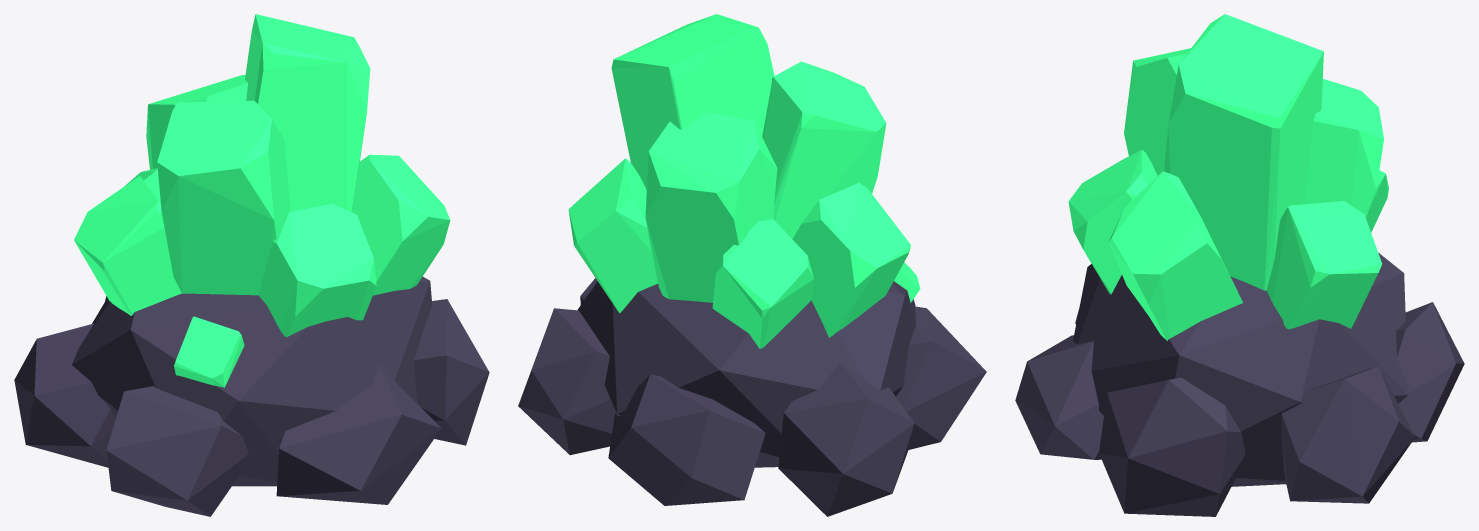
The model's file is Ore_Emerald.fbx.
3 views of the same model, side by side, from view 1: azimuth 30°, elevation 25°; view 2: azimuth 150°, elevation 25°; view 3: azimuth 270°, elevation 25° (orthographic). The views are drawn at different scales.
Visible parts, largest first — view 1: Ore_Rock, Ore_Crystal; view 2: Ore_Crystal, Ore_Rock; view 3: Ore_Rock, Ore_Crystal.
Boxes of the visible parts, box(x1,y1,x2,y2) form: Ore_Rock: box(14, 276, 489, 516); Ore_Crystal: box(74, 14, 450, 387); Ore_Crystal: box(568, 14, 920, 348); Ore_Rock: box(518, 278, 986, 516); Ore_Rock: box(1015, 253, 1464, 516); Ore_Crystal: box(1068, 14, 1388, 340).
Size of the model in its own units: 1.85 by 2 by 1.85.
